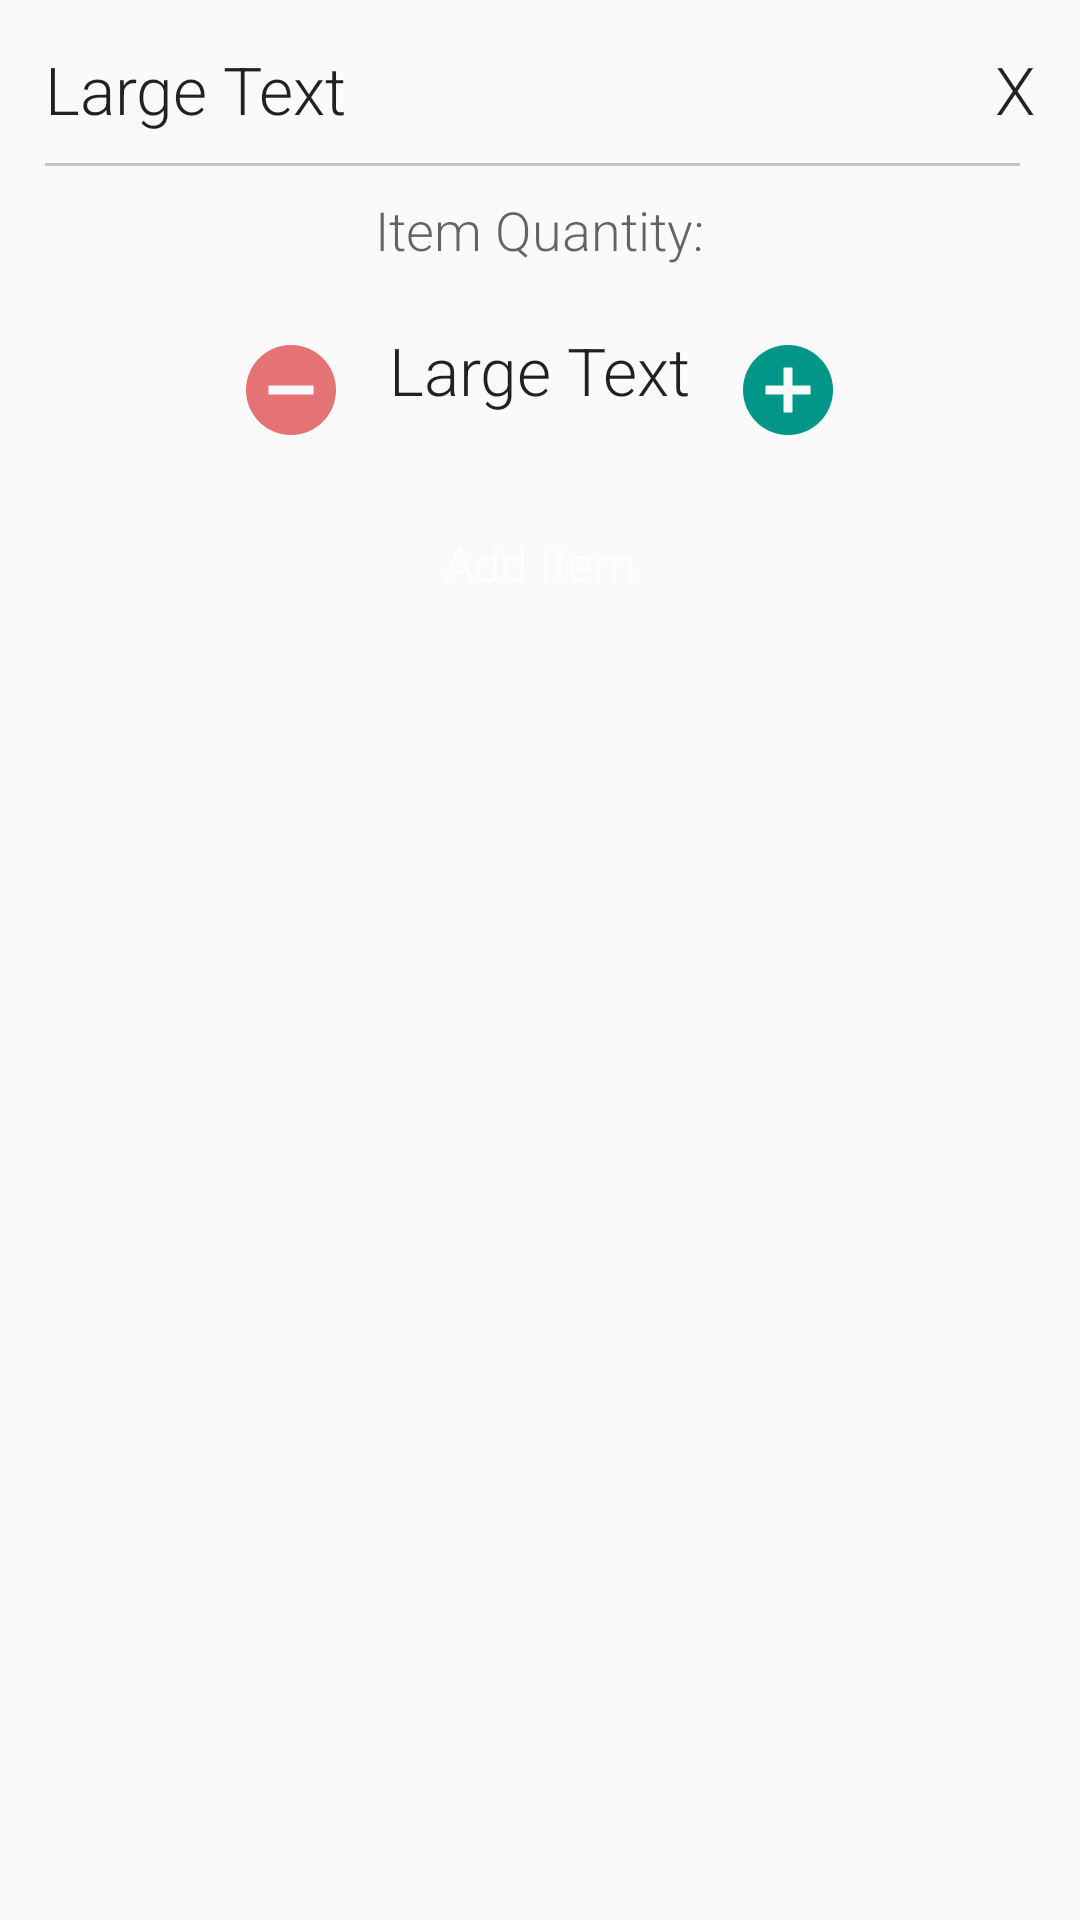

Icon bounding boxes for this 1080px×1920px phone screenshot, format (left=x1, top=y1, right=x2, bottom=y2):
add circle: (left=743, top=345, right=833, bottom=435)
custom minus: (left=246, top=345, right=336, bottom=435)
